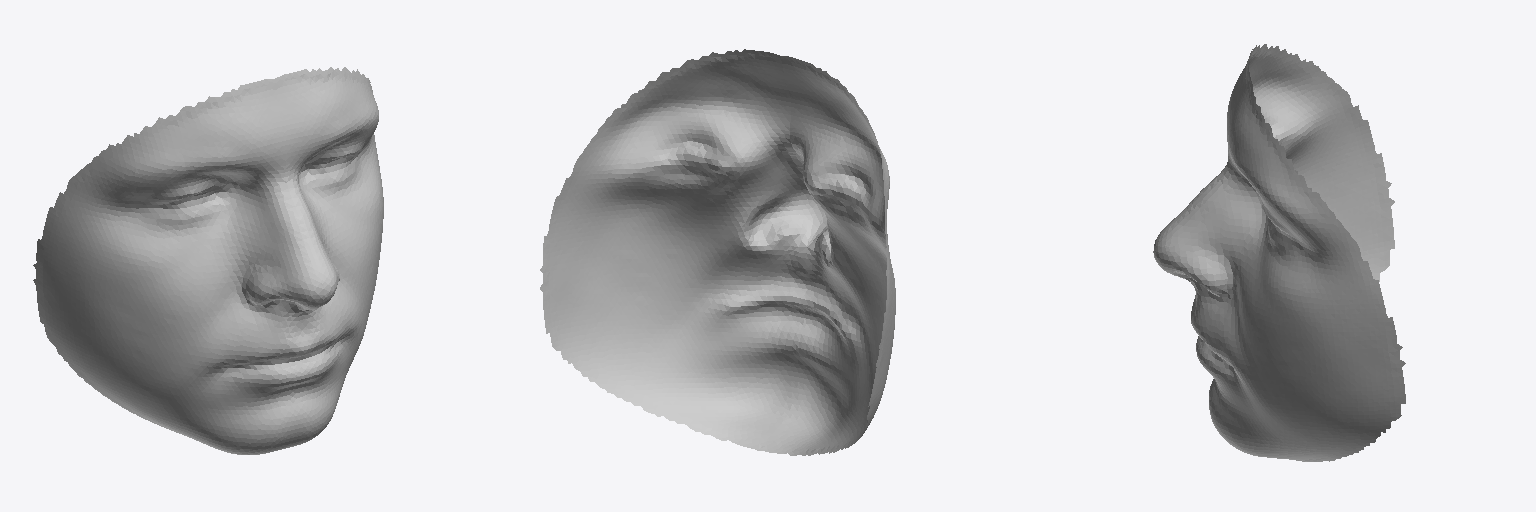
Rendered from SIMPOP_44.obj.
The picture shows the model from 3 angles: view 1: azimuth 30°, elevation 25°; view 2: azimuth 150°, elevation 25°; view 3: azimuth 270°, elevation 25°; orthographic projection.
Visible parts, largest first — view 1: SIMPOP_44; view 2: SIMPOP_44; view 3: SIMPOP_44.
Part boxes in pixels (left/top/right/bottom): SIMPOP_44: left=33, top=67, right=383, bottom=454; SIMPOP_44: left=540, top=49, right=895, bottom=455; SIMPOP_44: left=1153, top=44, right=1405, bottom=461.
Bounding box in the file's own units: 154 × 167 × 101.